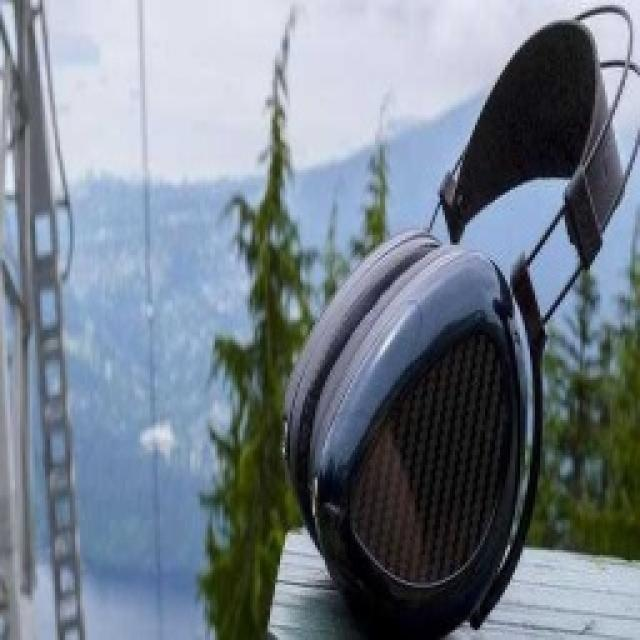headphones: (278, 2, 638, 638)
